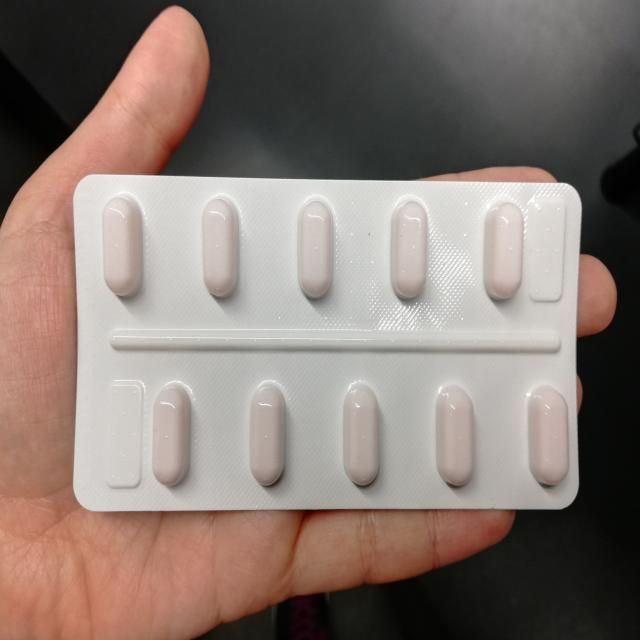Pill: (281, 180, 347, 313), (426, 370, 491, 491), (90, 185, 150, 315), (236, 369, 293, 500), (336, 367, 389, 500), (142, 374, 201, 493), (524, 378, 574, 506), (385, 194, 436, 318), (472, 195, 526, 311), (196, 191, 246, 311)
